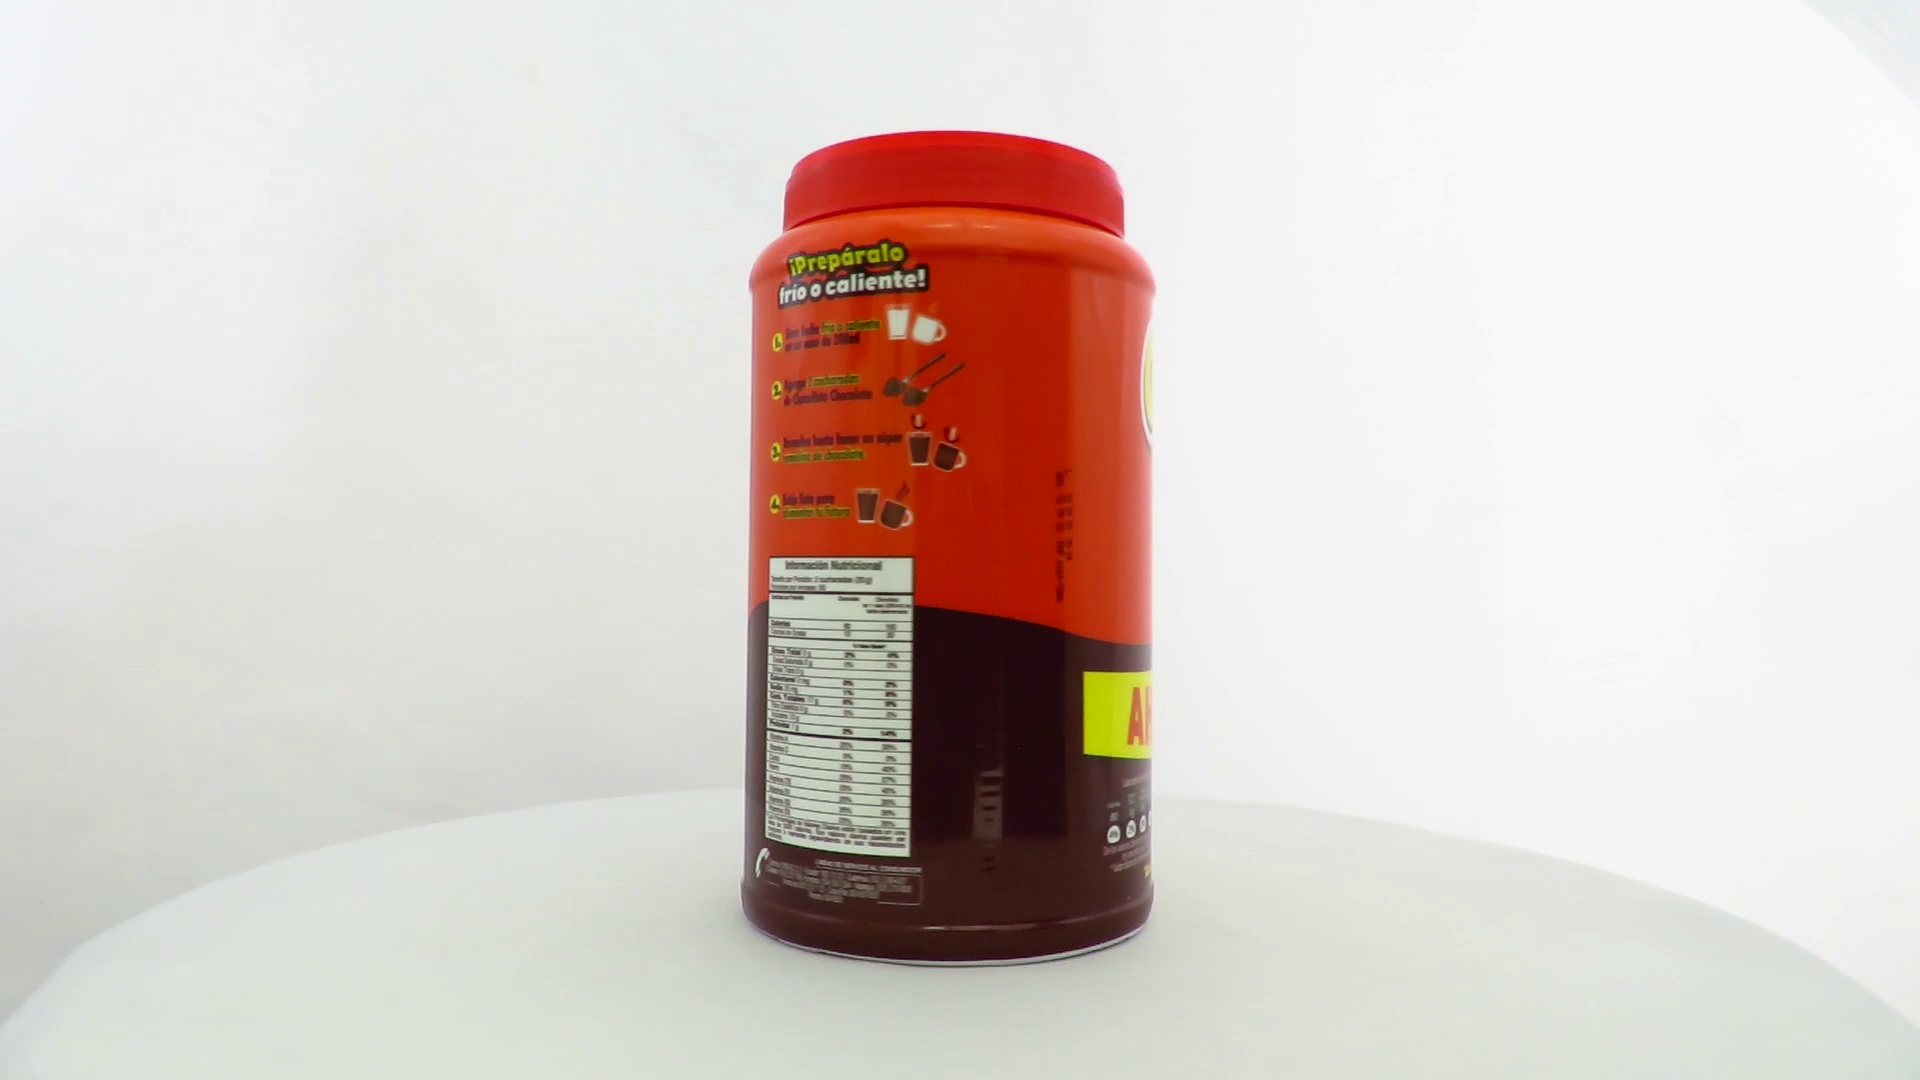COL0170103TRR00100: (735, 125, 1162, 975)
